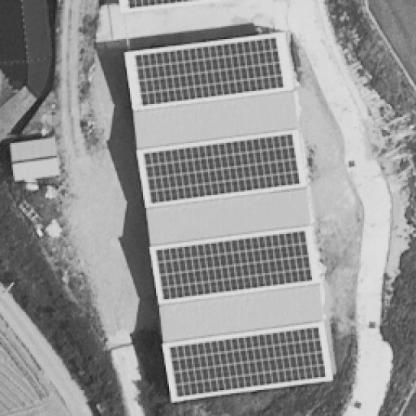solar-pv-panel: (145, 133, 300, 204), (156, 230, 311, 300), (169, 328, 326, 397), (135, 38, 284, 106)
